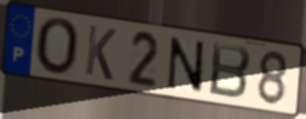2: (128, 30, 161, 91)
8: (255, 49, 291, 108)
B: (206, 40, 253, 101)
K: (83, 22, 119, 83)
N: (166, 34, 206, 96)
O: (35, 16, 82, 79)
